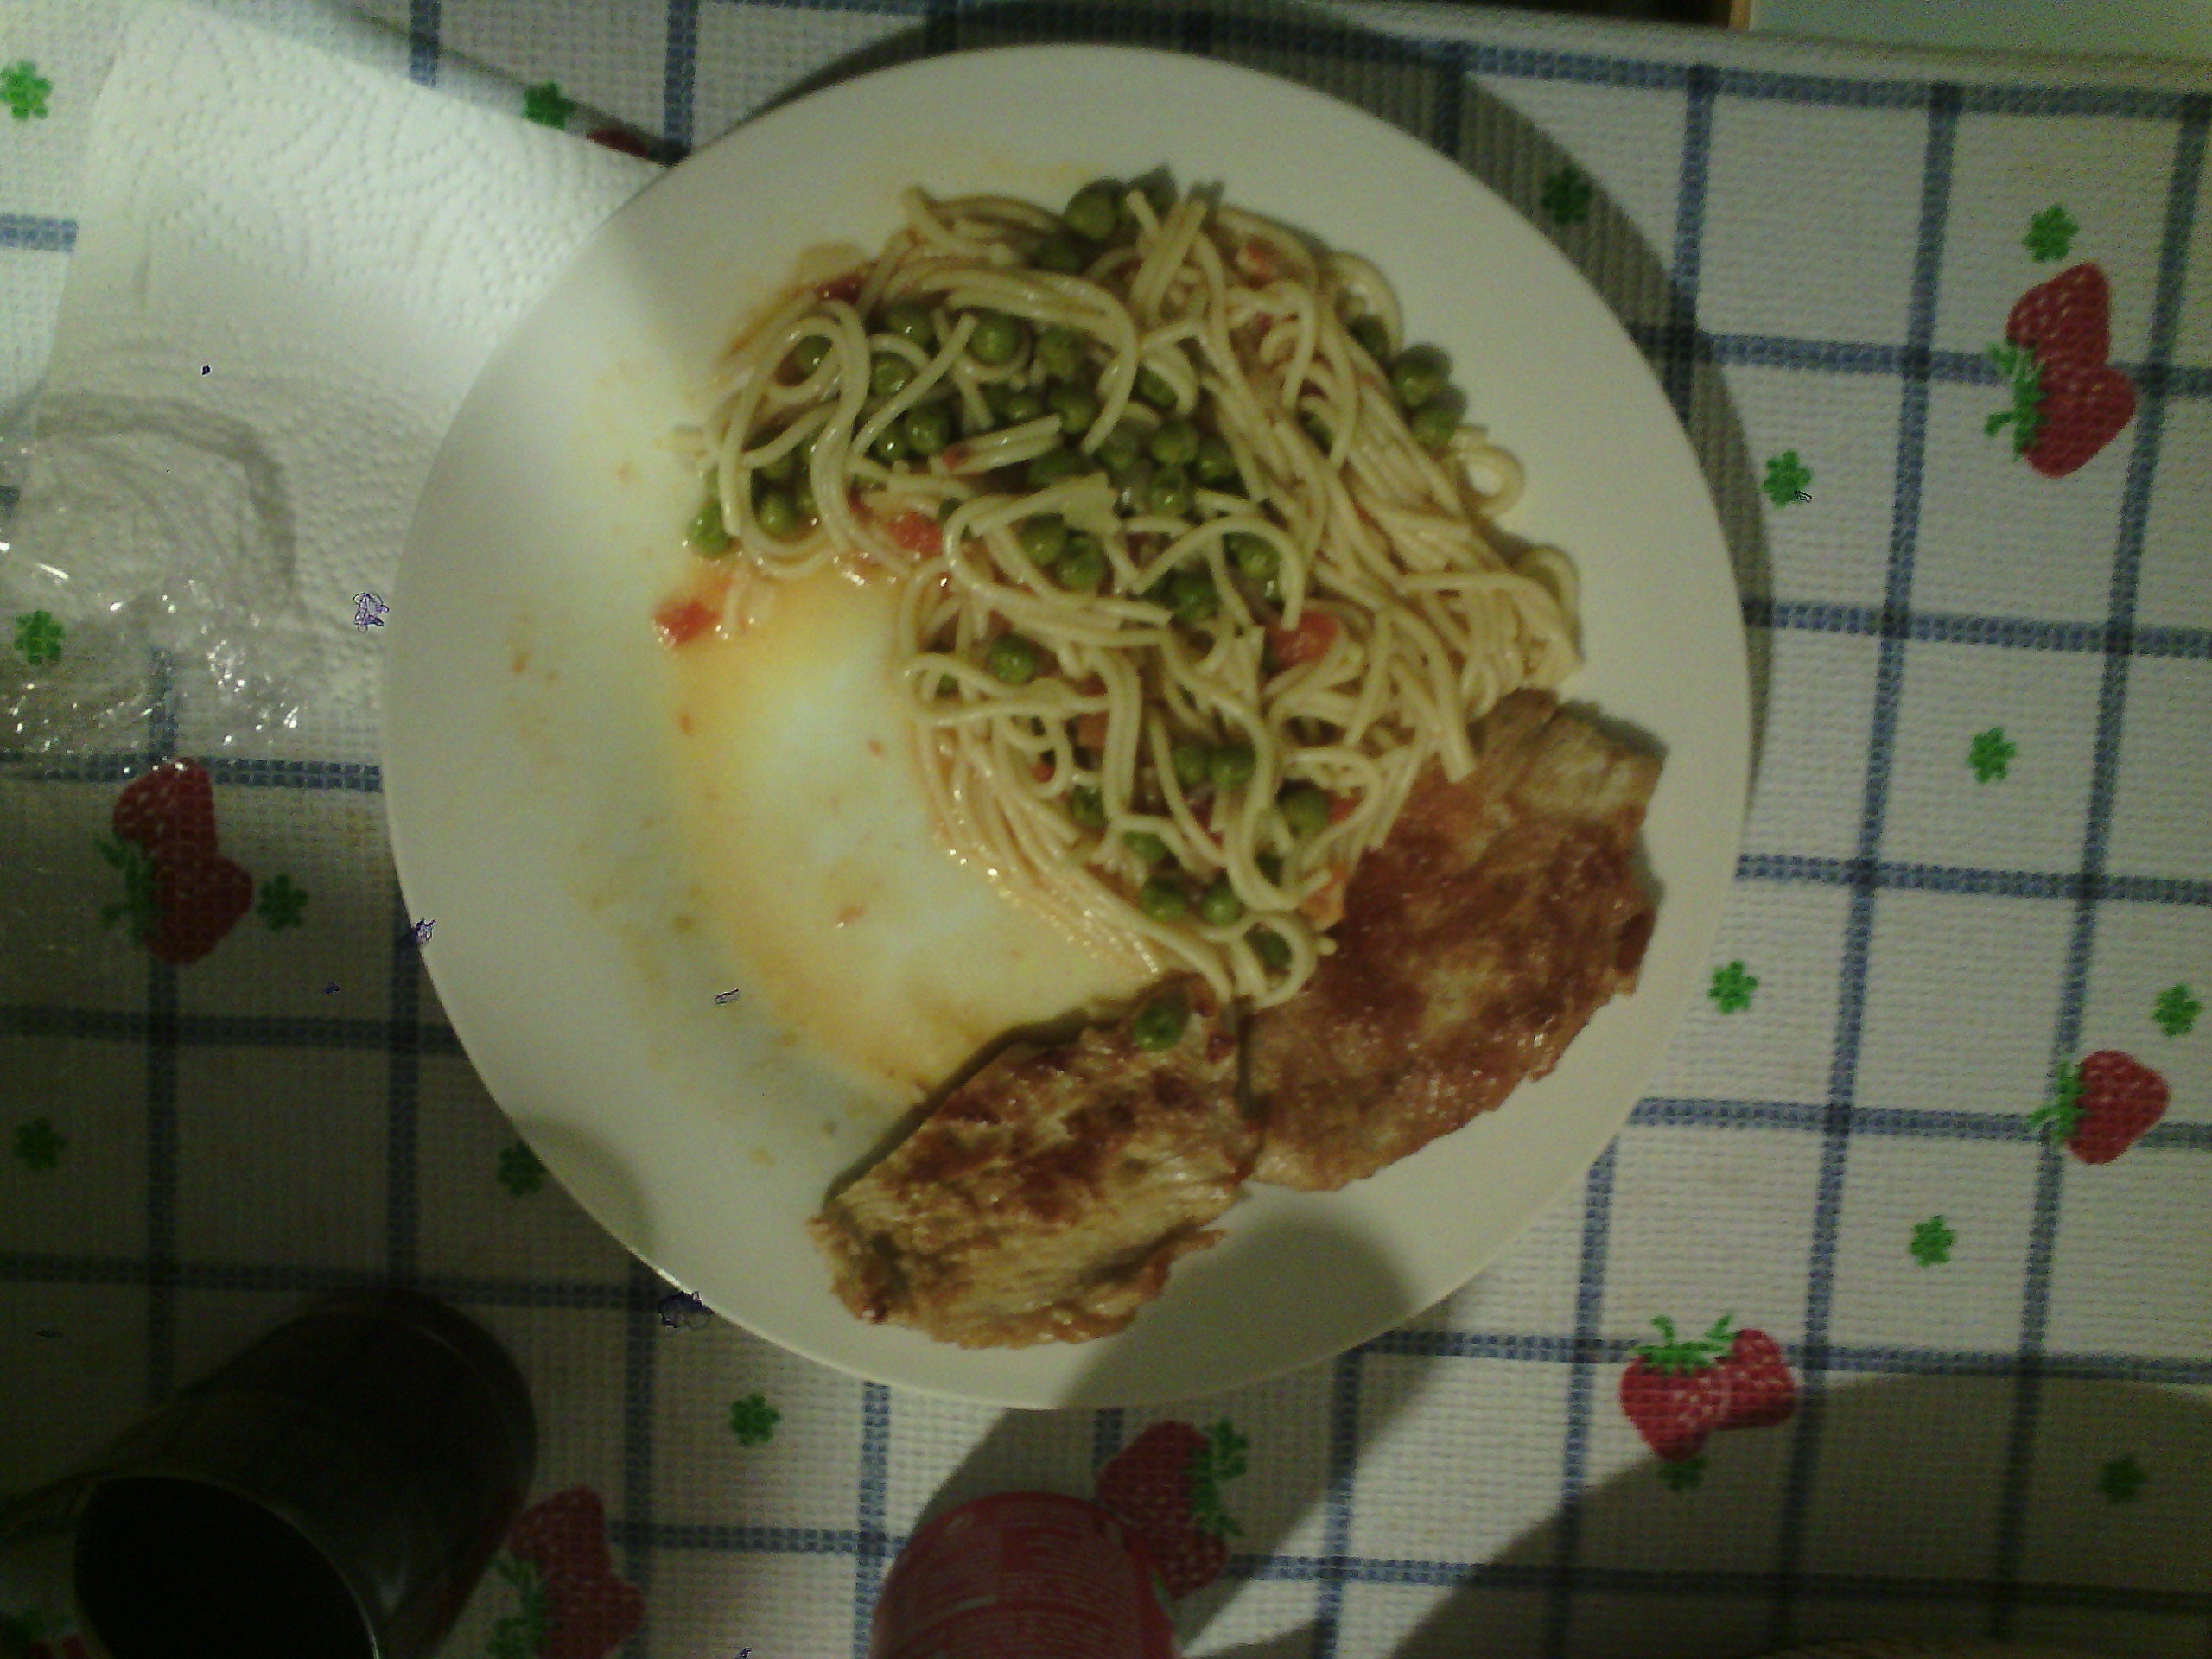61-80: (388, 54, 1750, 1406)
